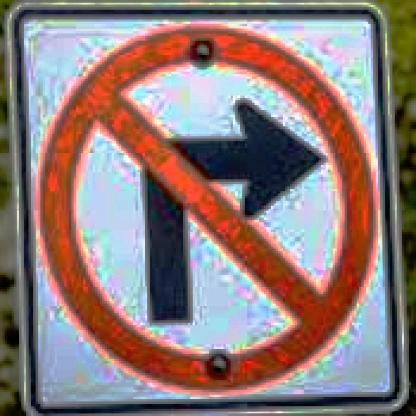No right turn: (27, 23, 389, 396)
